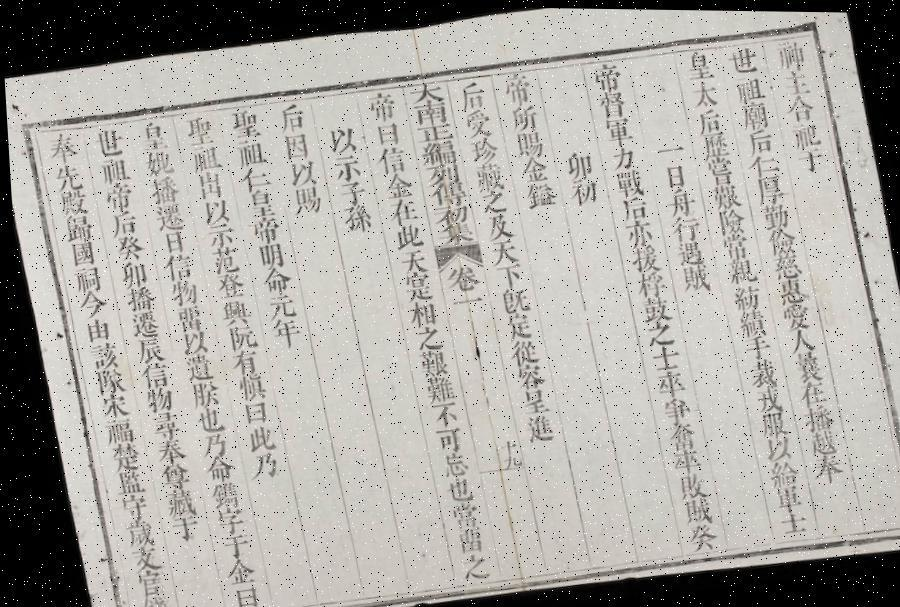c: (153, 484, 194, 518), (224, 106, 264, 140), (769, 35, 809, 69), (497, 69, 535, 104), (177, 112, 216, 146), (783, 346, 822, 380), (112, 515, 152, 548), (132, 118, 170, 152), (586, 58, 624, 92), (802, 450, 842, 482), (439, 260, 479, 292), (88, 124, 126, 157), (99, 440, 138, 472), (40, 130, 79, 162), (424, 176, 465, 206), (680, 46, 716, 80), (415, 137, 457, 166), (46, 160, 84, 192), (262, 315, 300, 347), (748, 171, 786, 203), (467, 160, 505, 192), (240, 448, 278, 480), (722, 42, 760, 74), (739, 354, 777, 386), (142, 174, 180, 206), (395, 269, 433, 301), (769, 272, 806, 304), (685, 76, 722, 108), (647, 364, 684, 396), (271, 100, 308, 132), (97, 180, 134, 212), (659, 184, 696, 216), (515, 410, 552, 442), (285, 183, 322, 215), (361, 89, 398, 121), (371, 142, 408, 174), (408, 98, 450, 126), (241, 214, 280, 244), (453, 77, 488, 110), (592, 86, 628, 118), (776, 64, 812, 96), (450, 548, 486, 580), (658, 416, 694, 448), (322, 122, 358, 154), (70, 288, 106, 320), (337, 201, 373, 233), (458, 106, 494, 138), (416, 372, 452, 404), (674, 260, 710, 292), (558, 146, 594, 178), (123, 566, 160, 597), (667, 468, 704, 499), (729, 71, 766, 102), (184, 142, 221, 173), (148, 201, 185, 232), (608, 165, 645, 196), (519, 178, 556, 209), (676, 520, 714, 550), (180, 378, 218, 408), (94, 415, 132, 445), (189, 168, 224, 200), (176, 350, 211, 382), (157, 250, 192, 282), (215, 555, 251, 586), (150, 459, 186, 490), (598, 113, 634, 144), (780, 90, 816, 121), (230, 138, 266, 169), (203, 243, 239, 274), (122, 308, 158, 339), (141, 409, 177, 440), (763, 248, 800, 278), (672, 494, 709, 524), (108, 490, 145, 520), (93, 154, 130, 184), (213, 296, 250, 326), (52, 186, 89, 216), (80, 340, 117, 370), (794, 400, 832, 429), (210, 530, 248, 559), (663, 211, 701, 240), (404, 78, 446, 104), (118, 544, 157, 572), (432, 218, 474, 244), (440, 497, 475, 528), (195, 451, 230, 482), (127, 334, 162, 365), (497, 309, 532, 340), (729, 305, 764, 336), (700, 153, 735, 184), (205, 504, 241, 534), (760, 224, 796, 254), (239, 188, 275, 218), (512, 384, 548, 414), (786, 118, 822, 148), (758, 456, 794, 486), (86, 366, 122, 396), (624, 242, 660, 272), (327, 152, 363, 182), (138, 147, 174, 177), (254, 264, 290, 294), (618, 216, 654, 246), (208, 270, 244, 300), (382, 195, 418, 225), (386, 220, 422, 250), (410, 347, 446, 377), (718, 254, 754, 284), (57, 213, 93, 243), (634, 292, 670, 322), (754, 198, 790, 228), (218, 321, 255, 350), (145, 435, 182, 464), (410, 119, 454, 143), (237, 421, 271, 452), (505, 101, 539, 132), (736, 98, 770, 129), (428, 200, 470, 225), (136, 384, 171, 414), (109, 232, 144, 262), (201, 478, 236, 508), (132, 360, 167, 390), (228, 370, 263, 400), (725, 280, 760, 310), (774, 300, 810, 329), (104, 467, 140, 496), (710, 204, 746, 233), (400, 298, 436, 327), (628, 268, 665, 296), (91, 390, 128, 418), (233, 165, 271, 192), (66, 264, 100, 294), (113, 258, 147, 288), (282, 157, 316, 187), (510, 128, 544, 158), (163, 278, 197, 308), (104, 208, 138, 238), (741, 126, 775, 156), (746, 382, 780, 412), (426, 423, 461, 452), (755, 431, 790, 460), (508, 360, 543, 389), (637, 317, 672, 346), (502, 336, 537, 365), (669, 236, 704, 265), (118, 283, 153, 312), (167, 303, 202, 332), (662, 443, 698, 471), (763, 482, 799, 510), (791, 144, 827, 172), (160, 514, 196, 542), (652, 392, 688, 420), (788, 376, 824, 404), (799, 426, 835, 454), (614, 192, 650, 220), (514, 154, 550, 182), (259, 291, 295, 319), (62, 238, 95, 268), (495, 284, 528, 314), (697, 128, 730, 158), (446, 524, 480, 553), (432, 447, 466, 476), (378, 170, 412, 199), (643, 341, 678, 369), (714, 229, 749, 257), (186, 405, 221, 433), (563, 176, 598, 204), (483, 236, 518, 264), (464, 134, 499, 162), (743, 150, 780, 176), (656, 158, 688, 188), (278, 130, 310, 160), (480, 210, 512, 240), (196, 196, 229, 225), (751, 407, 784, 436), (422, 399, 456, 427), (76, 315, 110, 343), (174, 328, 208, 356), (407, 323, 441, 351), (706, 180, 740, 208), (249, 240, 283, 268), (200, 220, 234, 248), (392, 246, 426, 274), (332, 177, 366, 205), (223, 346, 257, 374), (779, 324, 814, 351), (692, 104, 724, 133), (436, 474, 469, 502), (369, 118, 402, 146), (735, 331, 769, 358), (489, 260, 523, 287), (445, 288, 483, 312), (769, 508, 804, 534), (605, 142, 637, 170), (192, 430, 225, 457), (474, 187, 507, 214), (421, 162, 461, 184), (221, 582, 256, 607), (234, 397, 266, 424), (155, 228, 185, 255), (650, 136, 685, 158), (128, 594, 166, 607), (492, 435, 513, 454), (494, 450, 516, 467)
